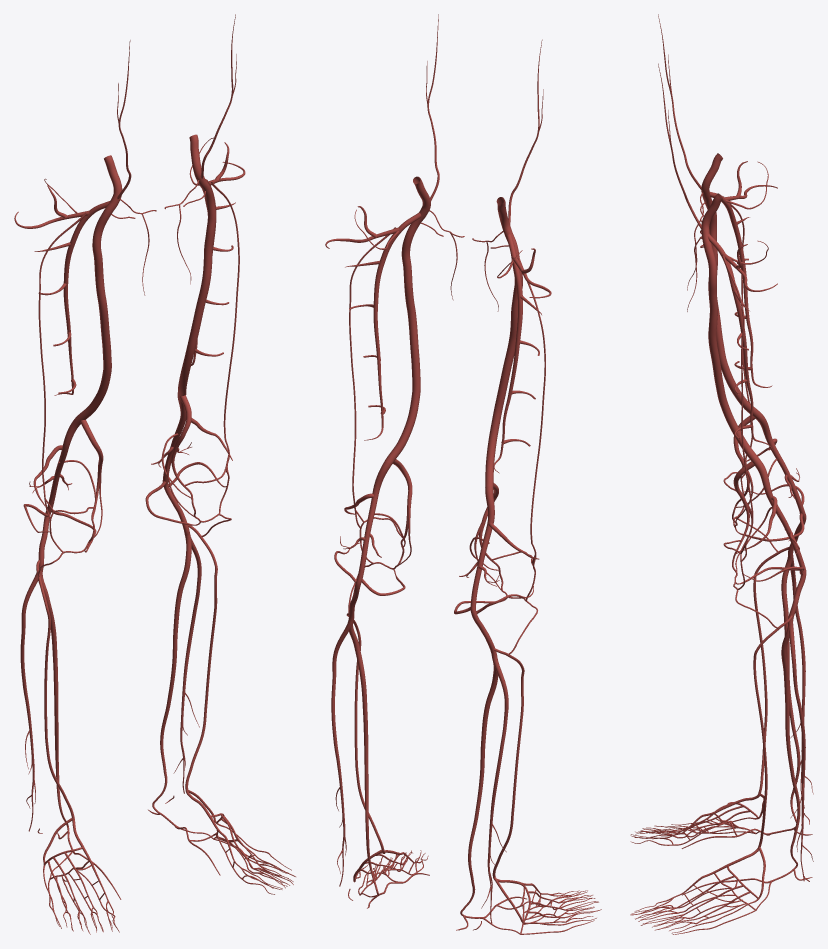
The model's file is arterial-lower-limb-balanced.glb.
3 renders of one model, left to right at view 1: azimuth 30°, elevation 25°; view 2: azimuth 150°, elevation 25°; view 3: azimuth 270°, elevation 25°, orthographic. The views are drawn at different scales.
Parts seen in each view (by area): view 1: za.femoral-artery-r, za.femoral-artery-l, za.posterior-tibial-artery-l, za.posterior-tibial-artery-r, za.fibular-artery-r, za.fibular-artery-l, za.popliteal-artery-r, za.deep-femoral-artery-r, za.anterior-tibial-artery-l, za.anterior-tibial-artery-r, za.superior-medial-genicular-artery-l, za.popliteal-artery-l (+3 smaller); view 2: za.femoral-artery-l, za.femoral-artery-r, za.posterior-tibial-artery-l, za.posterior-tibial-artery-r, za.popliteal-artery-r, za.fibular-artery-l, za.fibular-artery-r, za.deep-femoral-artery-l, za.popliteal-artery-l, za.deep-femoral-artery-r, za.anterior-tibial-artery-r, za.anterior-tibial-artery-l (+3 smaller); view 3: za.femoral-artery-l, za.femoral-artery-r, za.posterior-tibial-artery-l, za.posterior-tibial-artery-r, za.fibular-artery-l, za.popliteal-artery-l, za.deep-femoral-artery-l, za.deep-femoral-artery-r, za.popliteal-artery-r, za.anterior-tibial-artery-l, za.anterior-tibial-artery-r, za.fibular-artery-r (+11 smaller).
Boxes of the visible parts, bbox=[...] form: za.femoral-artery-r: bbox=[75, 155, 122, 423]; za.femoral-artery-l: bbox=[177, 134, 216, 398]; za.posterior-tibial-artery-l: bbox=[152, 534, 191, 824]; za.posterior-tibial-artery-r: bbox=[38, 570, 72, 848]; za.fibular-artery-r: bbox=[20, 572, 38, 831]; za.fibular-artery-l: bbox=[173, 537, 201, 793]; za.popliteal-artery-r: bbox=[38, 418, 80, 570]; za.deep-femoral-artery-r: bbox=[54, 201, 109, 395]; za.anterior-tibial-artery-l: bbox=[185, 525, 217, 790]; za.anterior-tibial-artery-r: bbox=[36, 560, 74, 818]; za.superior-medial-genicular-artery-l: bbox=[161, 395, 193, 516]; za.popliteal-artery-l: bbox=[162, 396, 189, 535]; za.femoral-artery-l: bbox=[385, 176, 430, 464]; za.femoral-artery-r: bbox=[485, 197, 522, 487]; za.posterior-tibial-artery-l: bbox=[349, 623, 382, 895]; za.posterior-tibial-artery-r: bbox=[460, 658, 498, 918]; za.popliteal-artery-r: bbox=[470, 486, 497, 658]; za.fibular-artery-l: bbox=[331, 622, 351, 886]; za.fibular-artery-r: bbox=[481, 658, 508, 923]; za.deep-femoral-artery-l: bbox=[364, 212, 421, 440]; za.popliteal-artery-l: bbox=[348, 461, 391, 623]; za.deep-femoral-artery-r: bbox=[493, 234, 522, 473]; za.anterior-tibial-artery-r: bbox=[492, 648, 524, 877]; za.anterior-tibial-artery-l: bbox=[346, 613, 384, 850]; za.femoral-artery-l: bbox=[701, 193, 761, 466]; za.femoral-artery-r: bbox=[701, 153, 762, 419]; za.posterior-tibial-artery-l: bbox=[773, 625, 800, 881]; za.posterior-tibial-artery-r: bbox=[772, 556, 800, 833]; za.fibular-artery-l: bbox=[789, 625, 813, 881]; za.popliteal-artery-l: bbox=[756, 462, 806, 625]; za.deep-femoral-artery-l: bbox=[707, 234, 772, 450]; za.deep-femoral-artery-r: bbox=[709, 192, 772, 387]; za.popliteal-artery-r: bbox=[757, 414, 806, 557]; za.anterior-tibial-artery-l: bbox=[753, 615, 792, 847]; za.anterior-tibial-artery-r: bbox=[753, 547, 788, 794]; za.fibular-artery-r: bbox=[790, 556, 813, 808].
Bounding box in the file's own units: 0.2927 × 1.06 × 0.2087.
